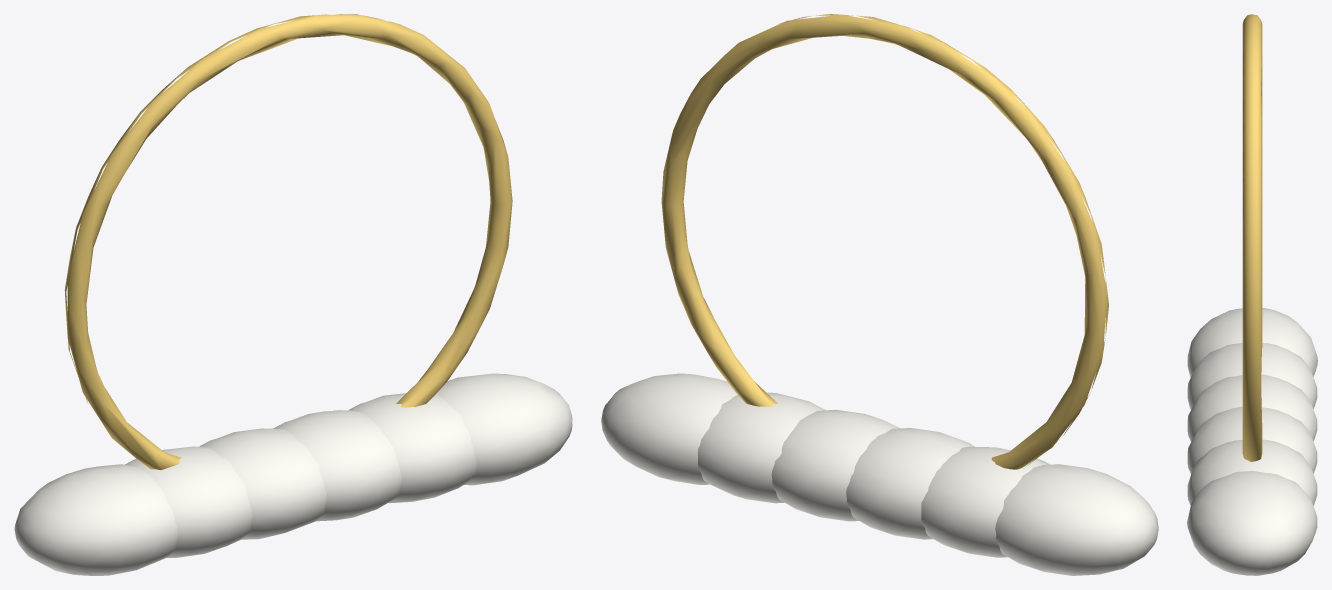
Rendered from ha_halogate.glb.
3 renders of one model, left to right at view 1: azimuth 30°, elevation 25°; view 2: azimuth 150°, elevation 25°; view 3: azimuth 270°, elevation 25°, orthographic. The views are drawn at different scales.
Bounding box in the file's own units: 5.1 × 4.49 × 1.2.
